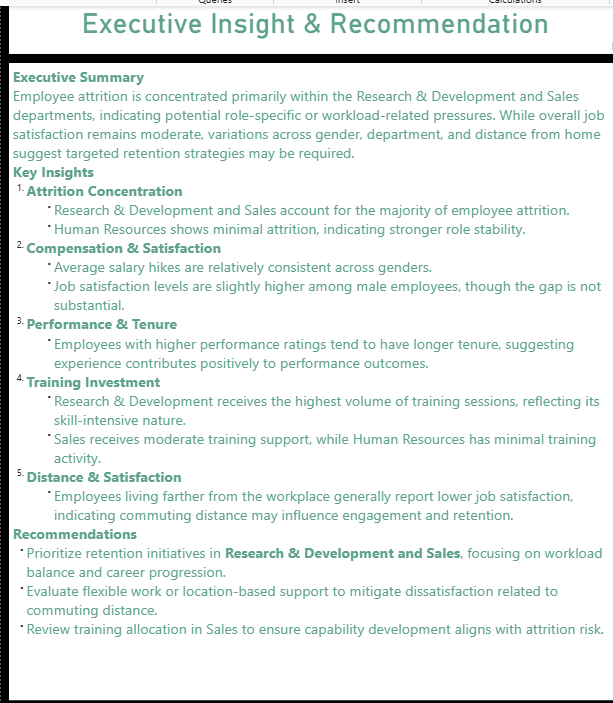

The dashboard page shown, as its layout file describes it:
{"tool":"powerbi","page":{"name":"Page 2","canvas":[816,1056],"ordinal":1},"visuals":[{"type":"textbox","title":"Executive Insight & Recommendation ","box":[10.5,0,805.1,63],"z":0},{"type":"textbox","box":[10.5,74.9,794.6,836.7],"z":1}]}

Visuals, with their boxes on the page's 816x1056 design canvas (x1, y1, x2, y2). These are canvas units, not pixel positions in the 613x703 screenshot, which may show the page scaled, cropped or inside an application window:
"Executive Insight & Recommendation " textbox: 10:0:816:63
textbox: 10:75:805:912
